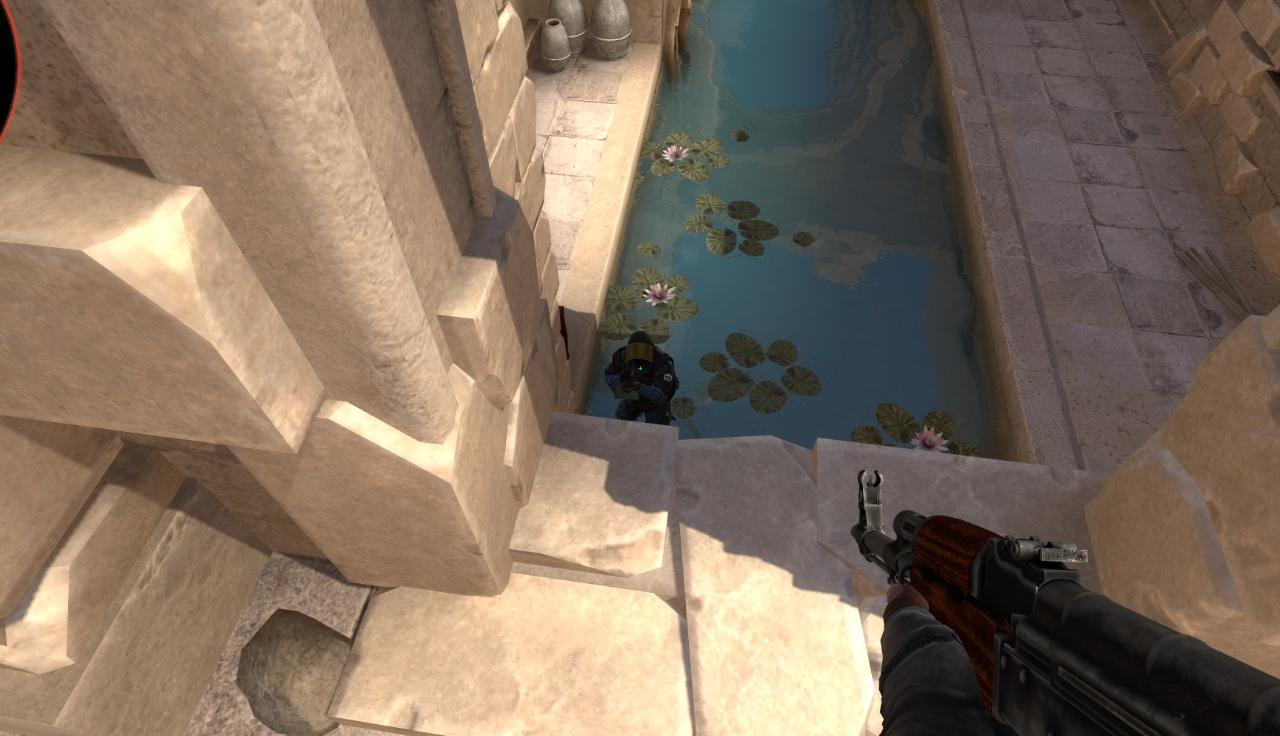ct: (608, 331, 674, 426)
cthead: (625, 331, 653, 366)
rifle: (852, 471, 1280, 736)
